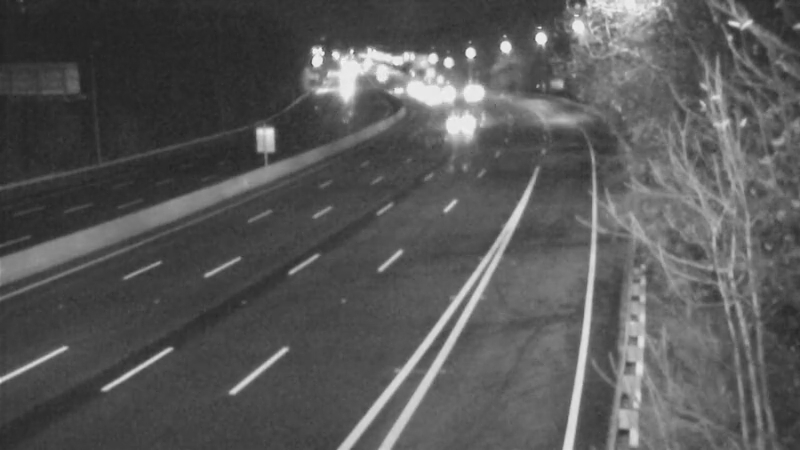vehicle: (446, 71, 496, 121), (408, 77, 458, 127), (439, 99, 489, 149)
